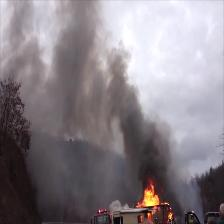fire: (141, 186, 159, 205)
smoke: (38, 16, 110, 120), (116, 99, 160, 176)
